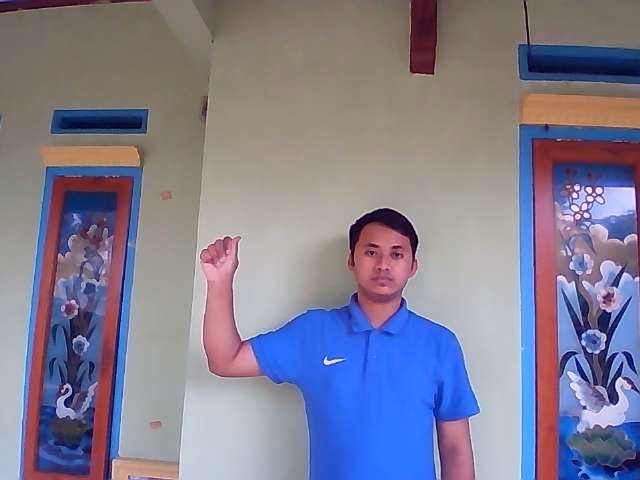A: (198, 234, 242, 281)
